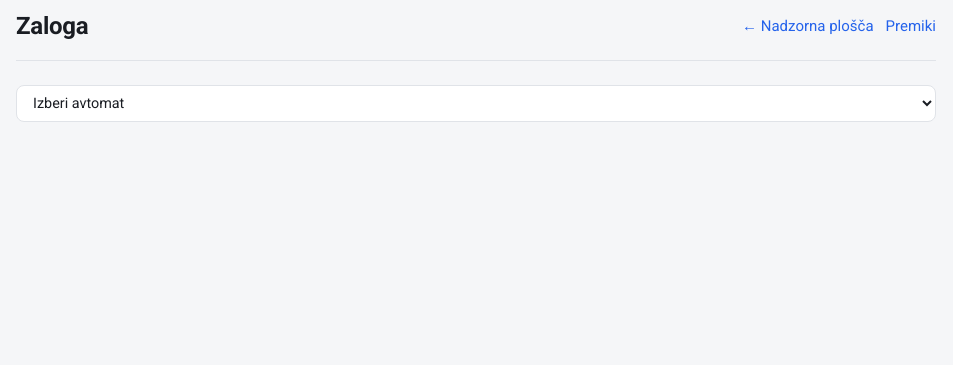
Test case: InventoryPage › shows every machine slot, also empty and not configured
Select "MB FERI" in the dropdown named "Avtomat" at x=476, y=104, box [16,85,936,122]
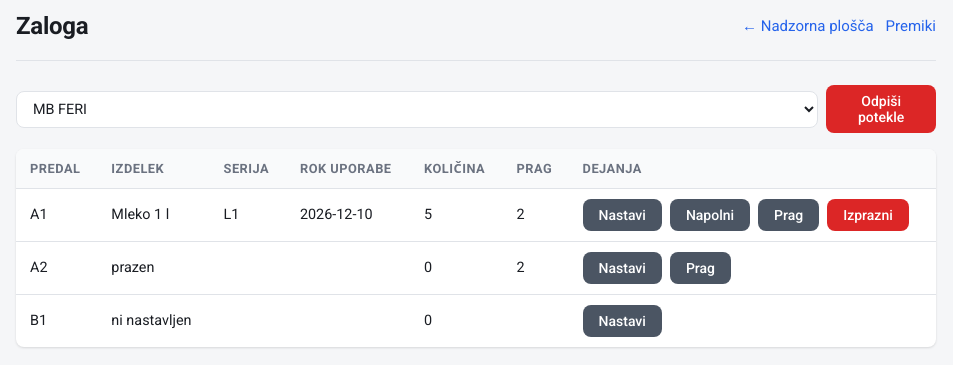
Result: the text "Mleko 1 l" is shown at [97,189,210,242]
Result: the row "A1" shows "Mleko 1 l" at [111,206,169,223]
Result: the row "A1" shows "L1" at [224,206,239,223]
